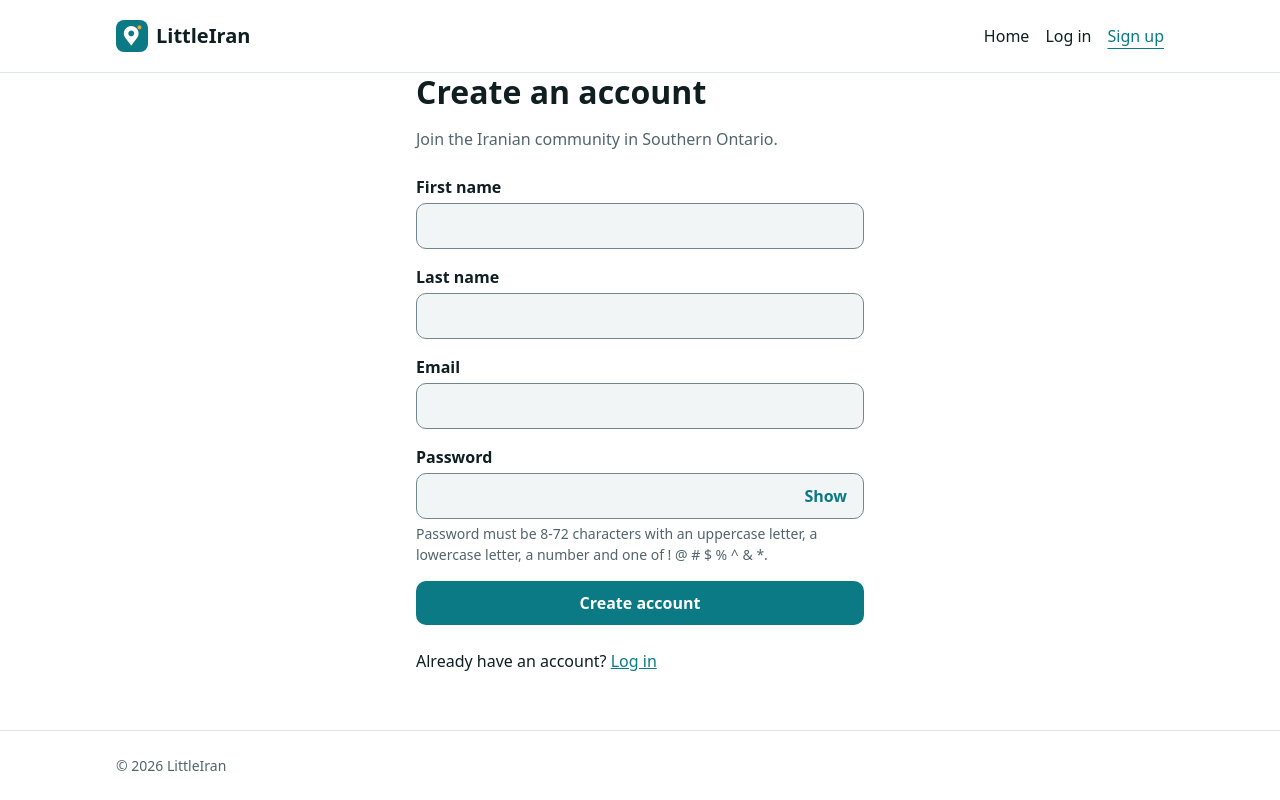
Test case: Register page › explains an unreachable server and keeps what was typed
Expected: the heading "Create an account" is shown, [416,70,706,113]
Type "Sara" into the field labelled "First name".
click(640, 226); type("Sara")  # box [417,204,863,248]
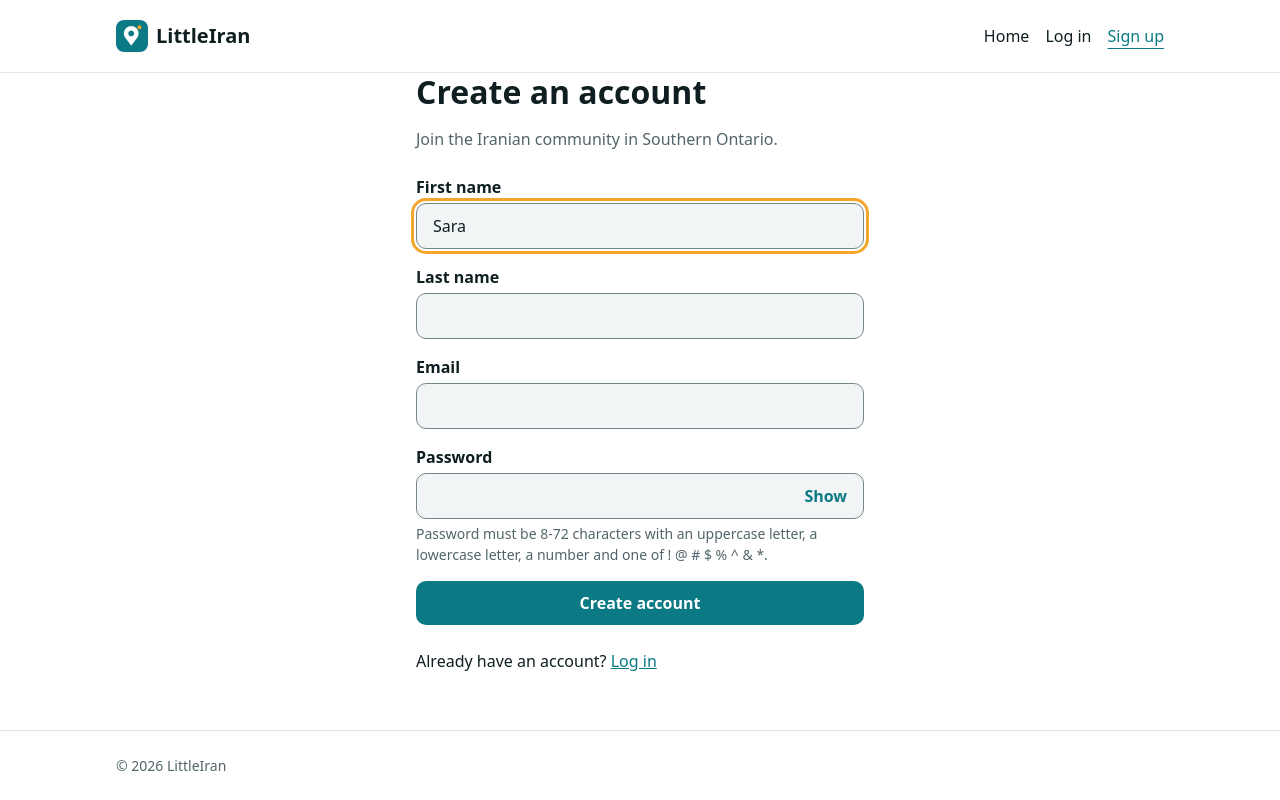
Type "Ahmadi" into the field labelled "Last name".
click(640, 316); type("Ahmadi")  # box [417,294,863,338]
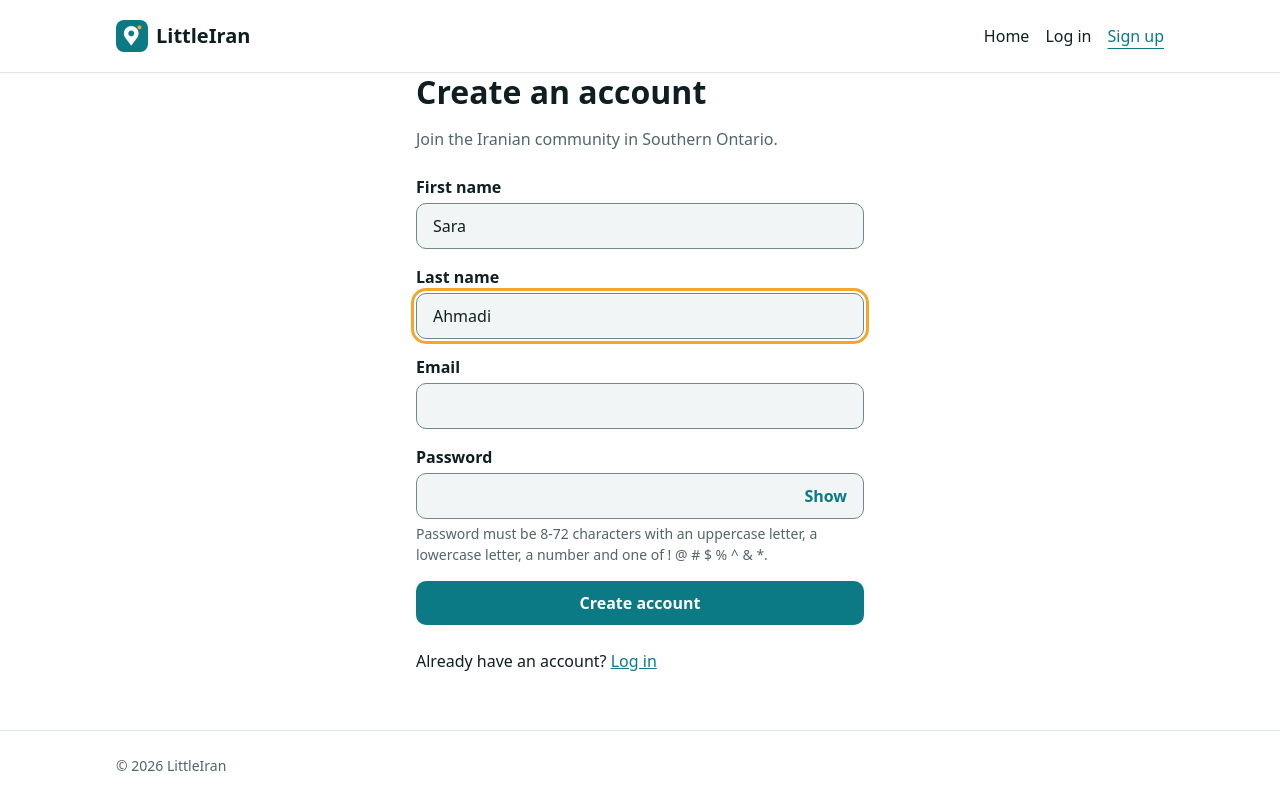
Type "sara@example.com" into the field labelled "Email".
click(640, 406); type("sara@example.com")  # box [417,384,863,428]
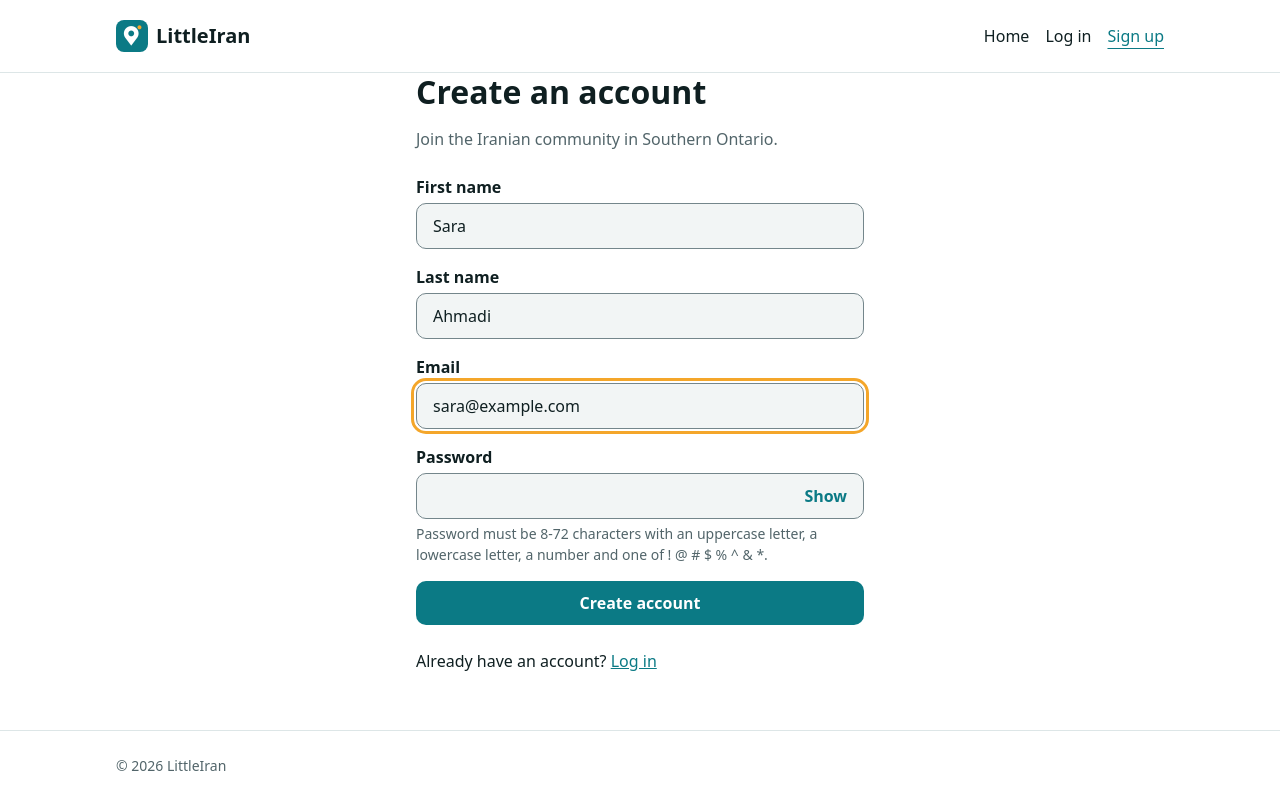
Type "Strong1!" into the password field labelled "Password".
click(603, 496); type("Strong1!")  # box [417,474,788,518]
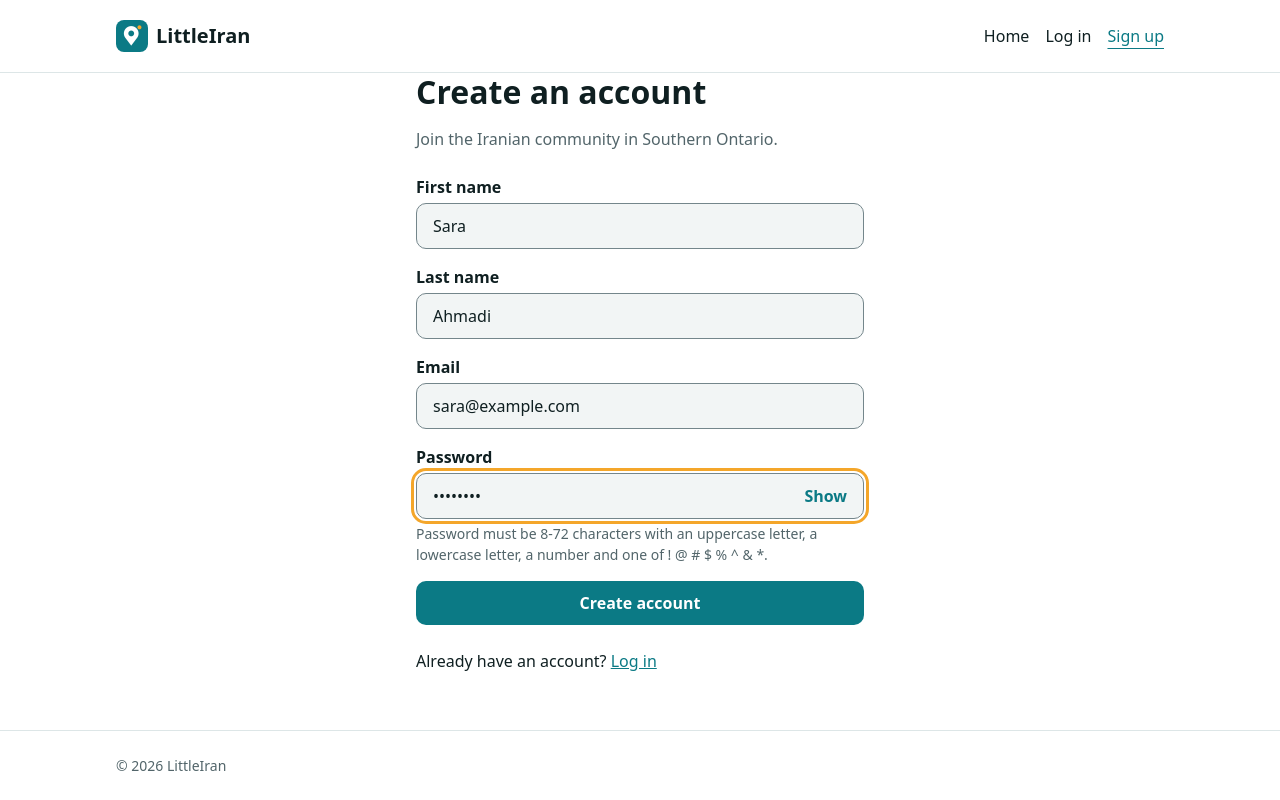
Click the button "Create account".
click(640, 603)  # box [416,581,864,625]
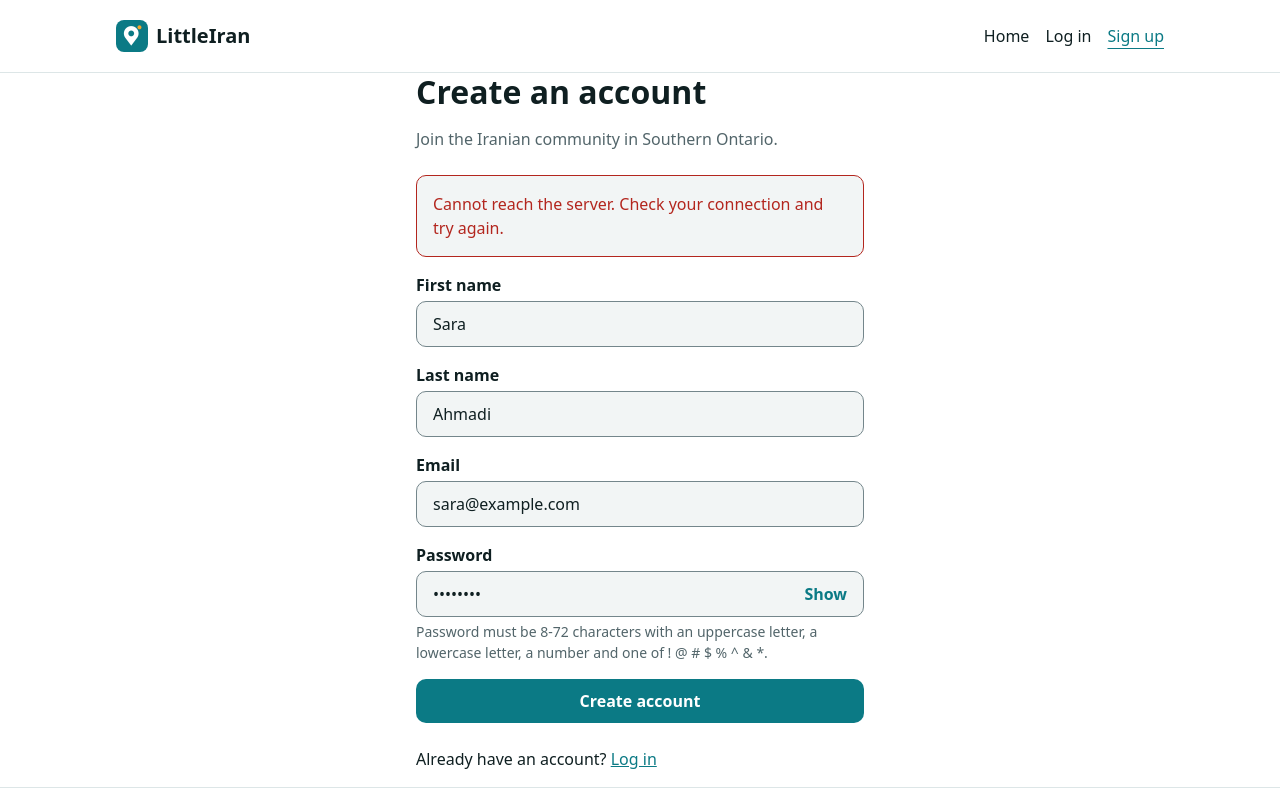
Expected: the message shows "Cannot reach the server", [433,193,823,239]
